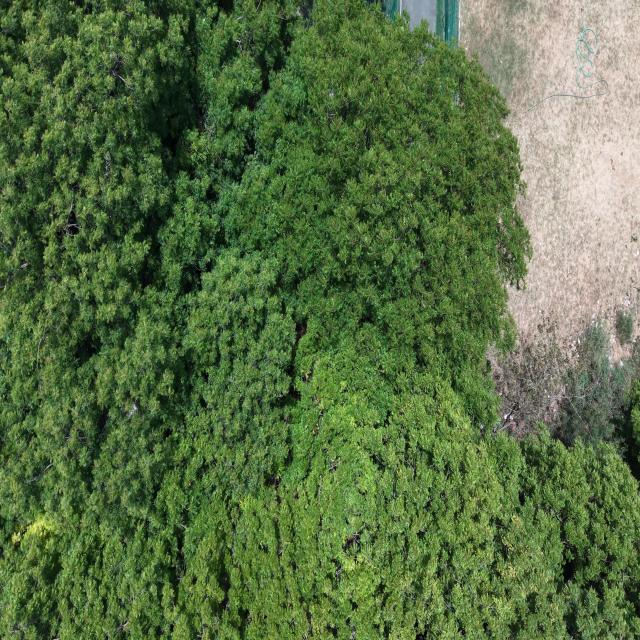DRY_AREA: (461, 0, 639, 346), (397, 0, 437, 31)
VEGETATION_TREE: (0, 0, 639, 639), (490, 318, 639, 450), (560, 321, 639, 443), (627, 381, 639, 477), (616, 310, 633, 344)
